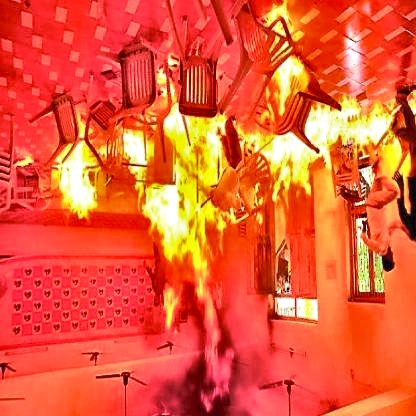fire: (43, 69, 407, 296)
